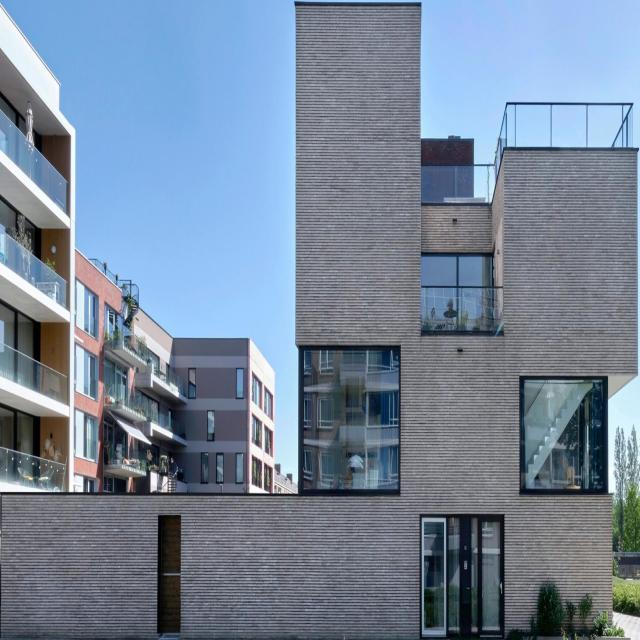Railing: (422, 100, 636, 208), (422, 284, 505, 333)
door: (419, 514, 499, 632), (160, 511, 180, 632)
plant: (513, 579, 624, 640), (610, 427, 639, 616)
wall: (0, 0, 635, 639)
windows: (301, 342, 398, 495), (522, 380, 606, 491), (423, 253, 493, 327)
